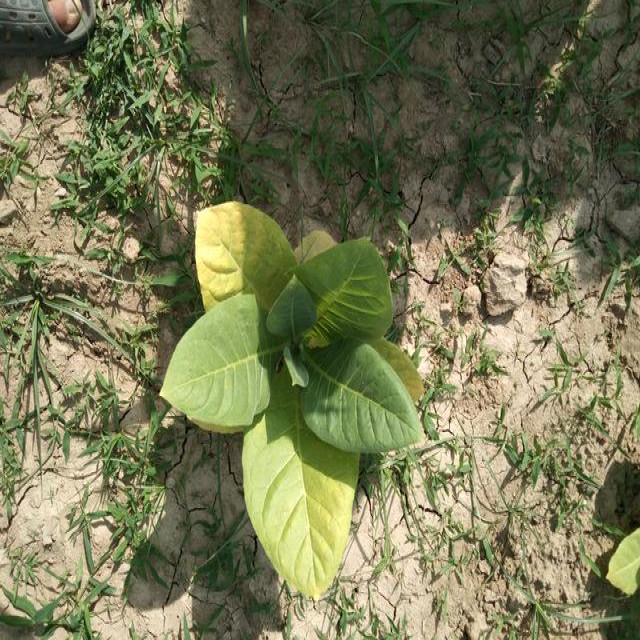crop: (158, 188, 432, 601)
